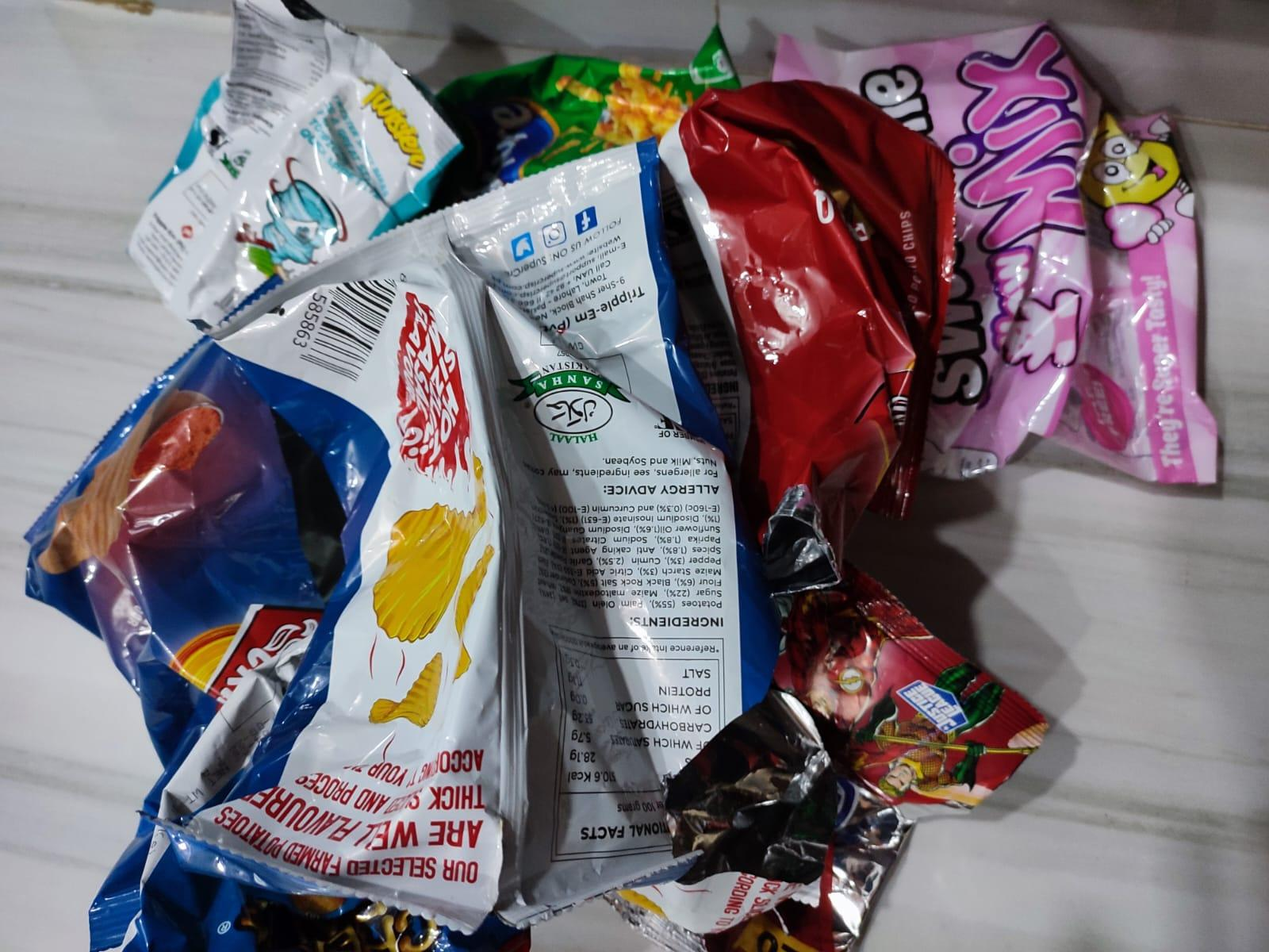garbage: (42, 0, 1267, 952)
